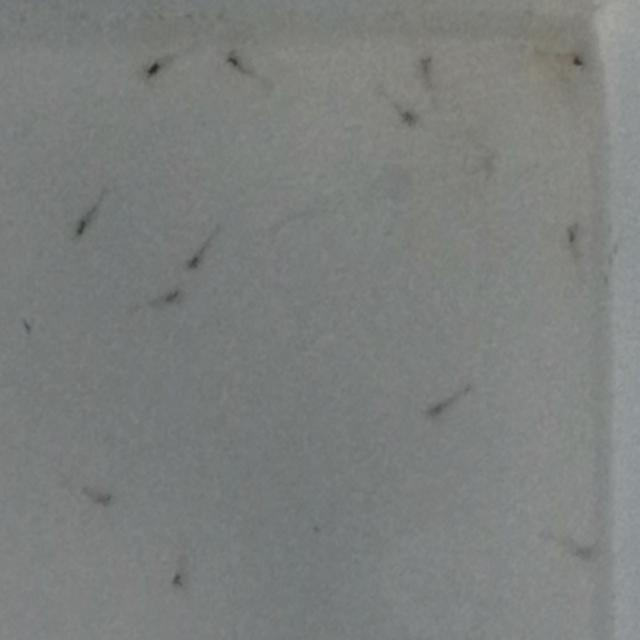shrimp-seed: (421, 395, 457, 425), (560, 218, 586, 258), (162, 568, 191, 600), (74, 206, 101, 240), (158, 283, 188, 310), (568, 538, 598, 564), (183, 242, 208, 273), (222, 48, 247, 75), (397, 104, 421, 132), (144, 51, 166, 81), (87, 489, 120, 507), (418, 52, 439, 78)
